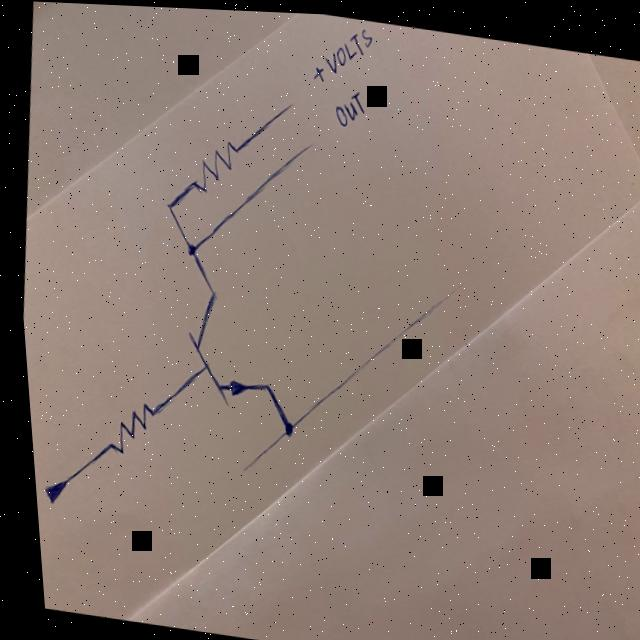junction: (175, 230, 200, 260), (270, 411, 292, 442), (160, 197, 170, 209)
resistor: (88, 387, 157, 465), (180, 128, 241, 195)
terminal: (27, 469, 74, 508), (447, 273, 461, 289), (232, 457, 244, 471), (280, 95, 291, 109), (300, 136, 311, 149)
text: (318, 17, 380, 74), (328, 79, 369, 128), (306, 57, 323, 79)
transistor: (167, 274, 280, 414)
